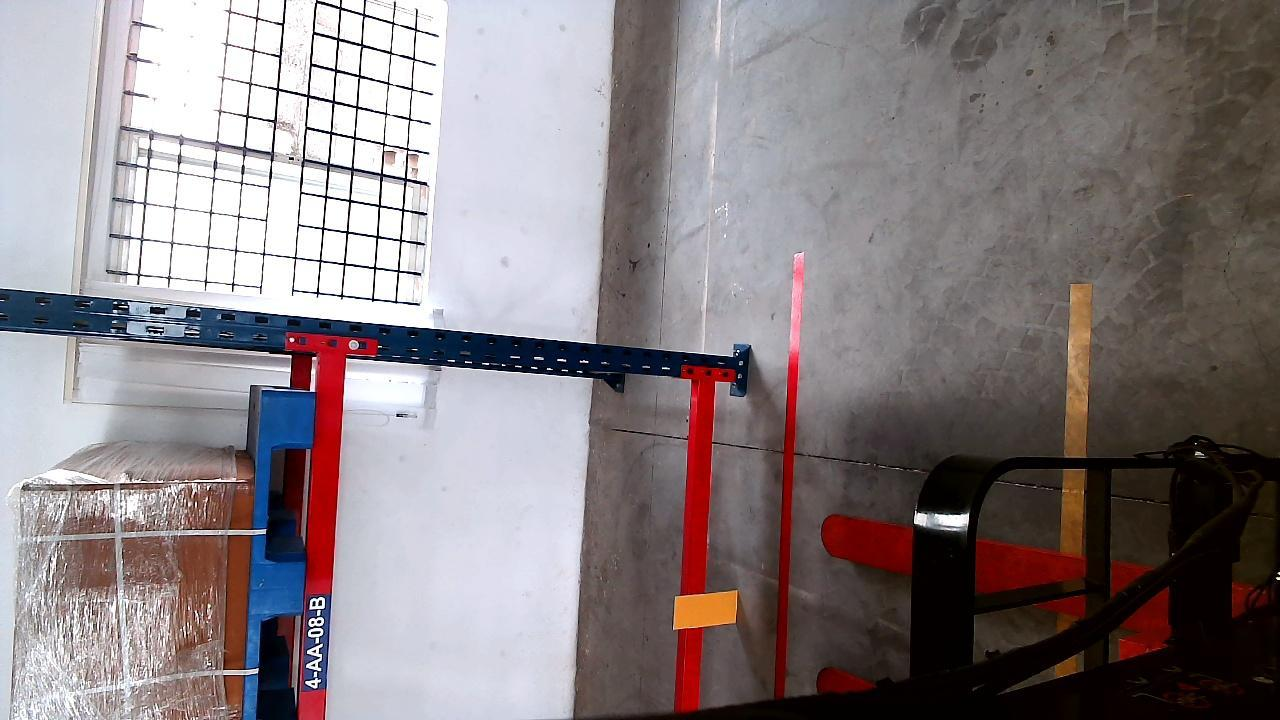red_line: (773, 254, 804, 696)
yellow_line: (1063, 281, 1091, 550)
